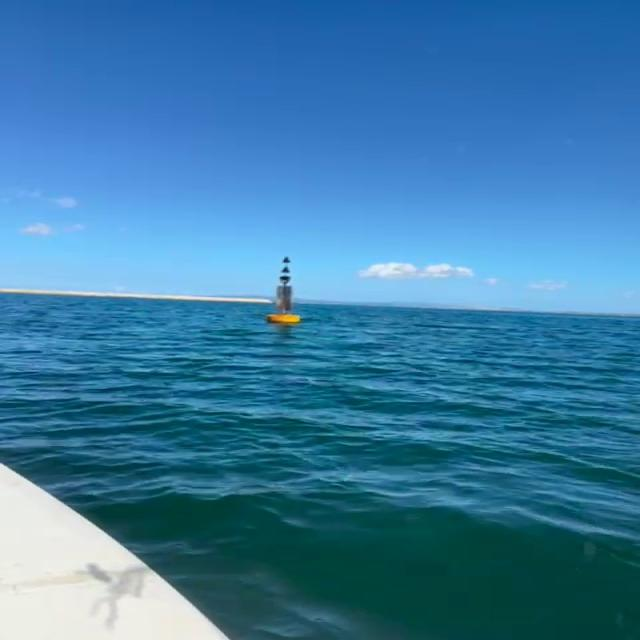marque: (265, 255, 305, 325)
